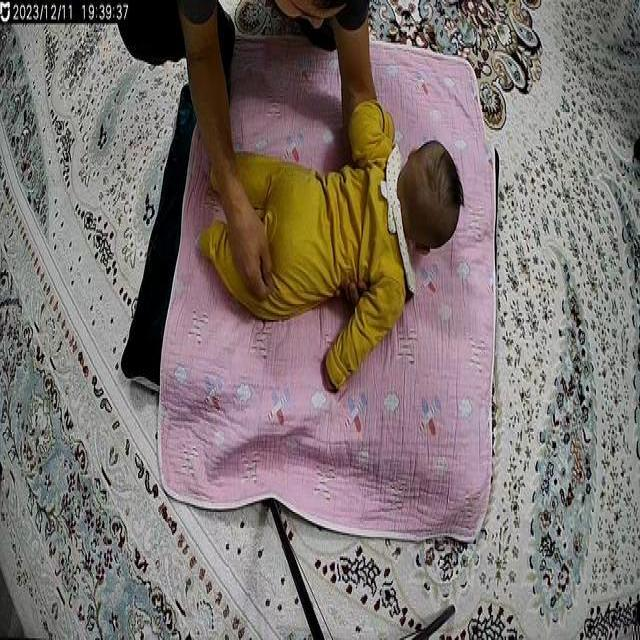baby: (198, 88, 466, 406)
